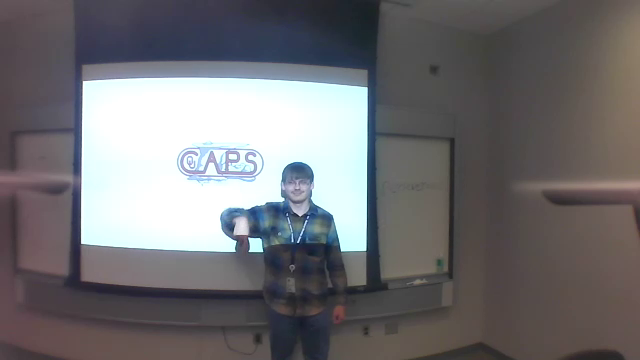down: (232, 218, 256, 259)
